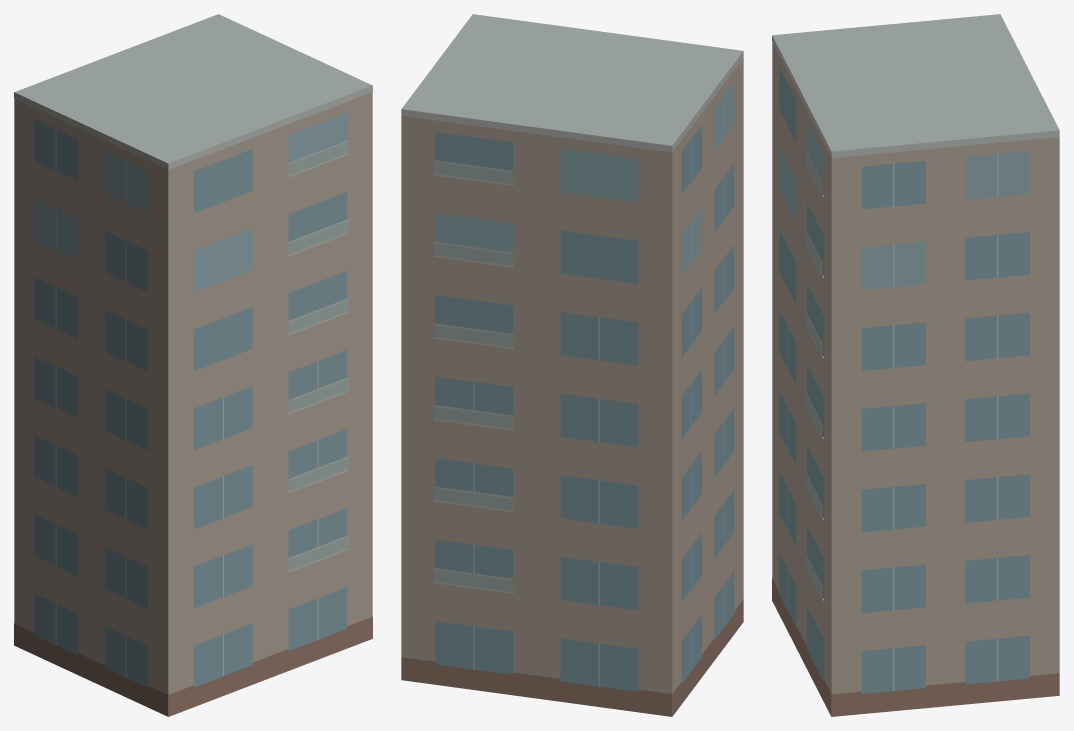
The model's file is survey-upis-32601518.glb.
The picture shows the model from 3 angles, left to right: view 1: azimuth 30°, elevation 25°; view 2: azimuth 150°, elevation 25°; view 3: azimuth 270°, elevation 25°; orthographic projection. The views are drawn at different scales.
Visible parts, largest first — view 1: survey-upis-32601518.tmp; view 2: survey-upis-32601518.tmp; view 3: survey-upis-32601518.tmp.
Part boxes in pixels (x1,y1,x2,y2): survey-upis-32601518.tmp: [14, 14, 372, 716]; survey-upis-32601518.tmp: [401, 14, 743, 716]; survey-upis-32601518.tmp: [772, 14, 1059, 716].
Bounding box in the file's own units: 10.94 × 20.95 × 9.67.
